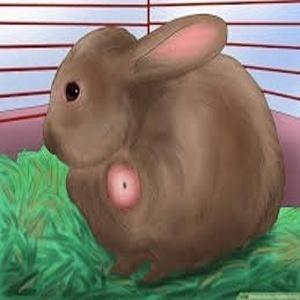rabbit: (43, 15, 285, 280)
